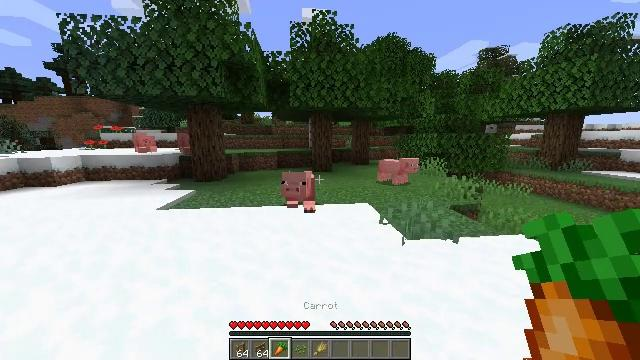pig: (281, 170, 316, 214), (376, 158, 419, 184), (132, 130, 157, 153)
